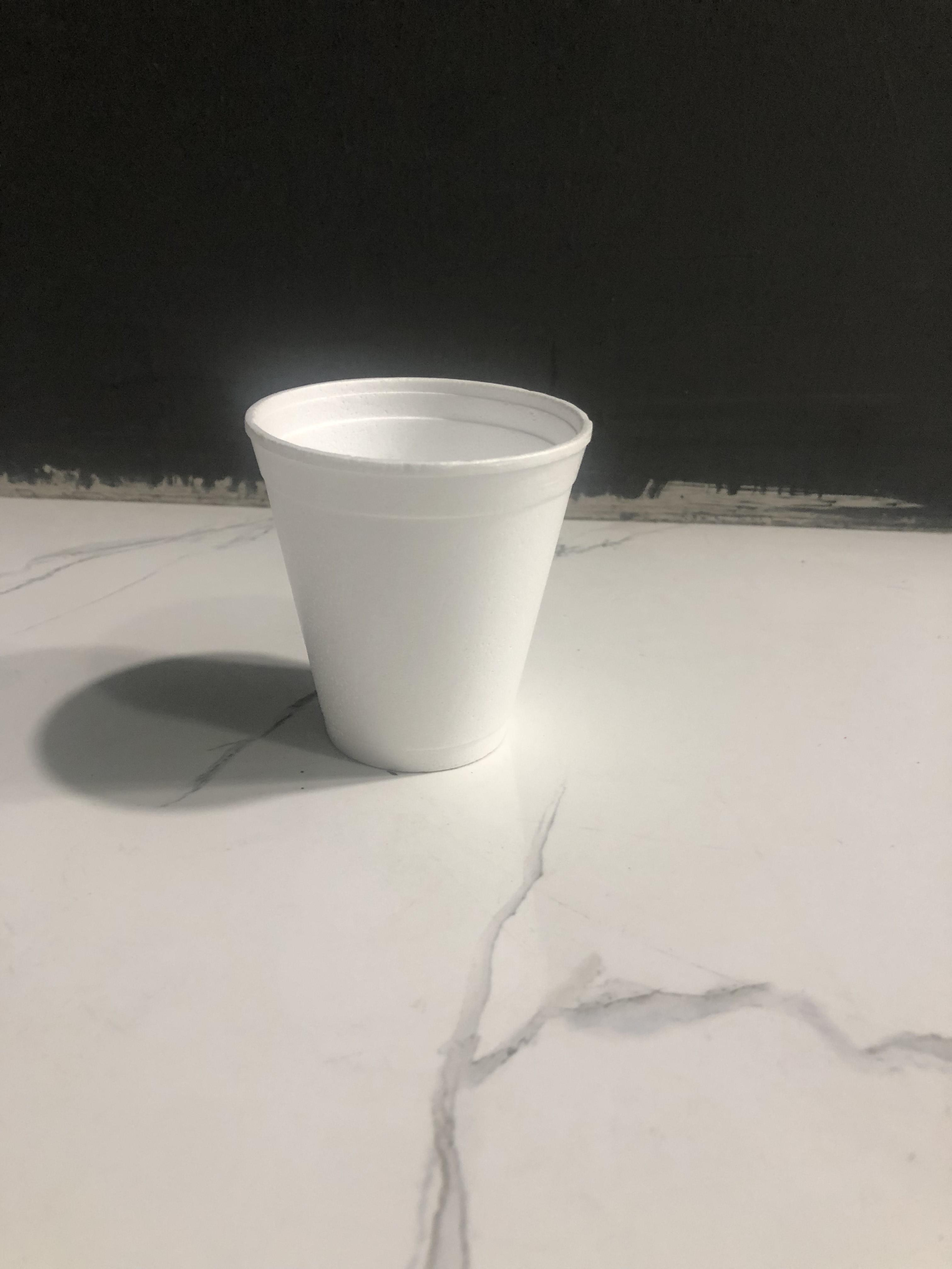cup-disposable: (244, 373, 597, 774)
